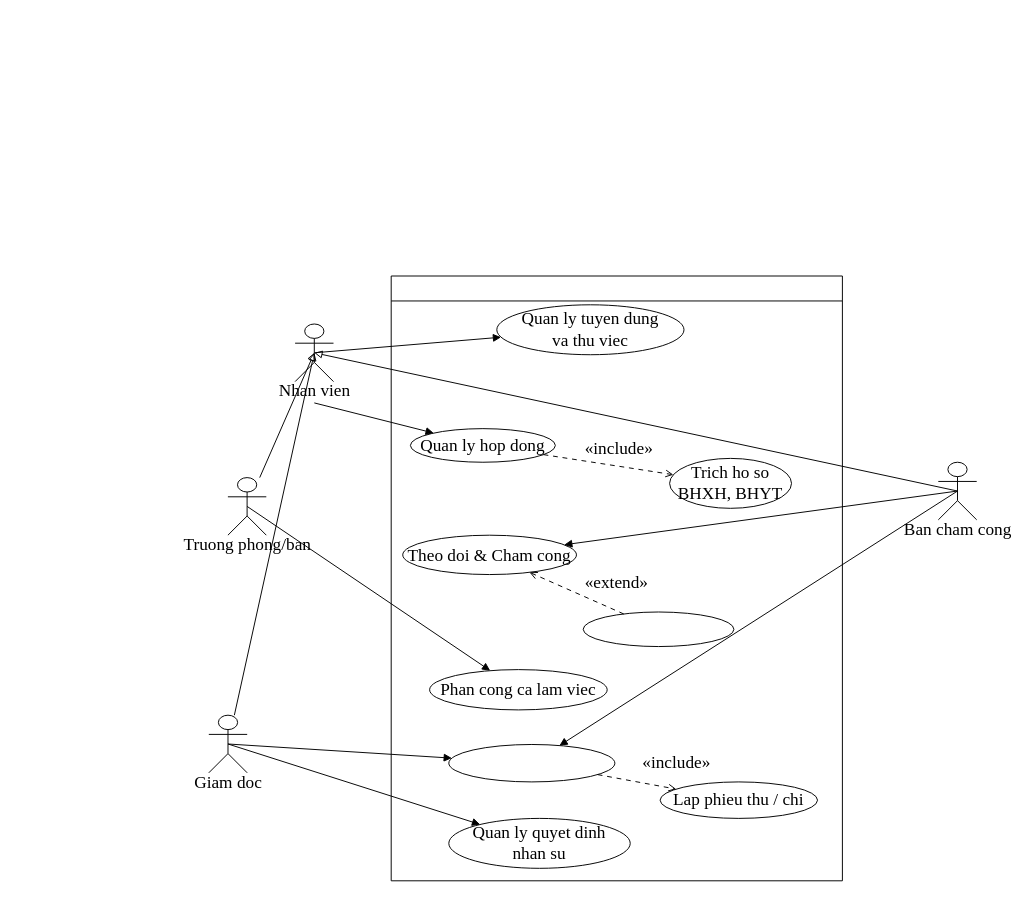
This 1029x898 diagram has some shape labels left out. The shapes that lost their labels are listed below. From the top down, each one's box as (x1, y1, x2, y2) in pixels, then its label:
(390, 275, 842, 881): HE THONG QUAN LY NHAN SU
(582, 611, 734, 647): Lap phieu phu troi
(448, 744, 615, 782): Tinh luong va thuong
